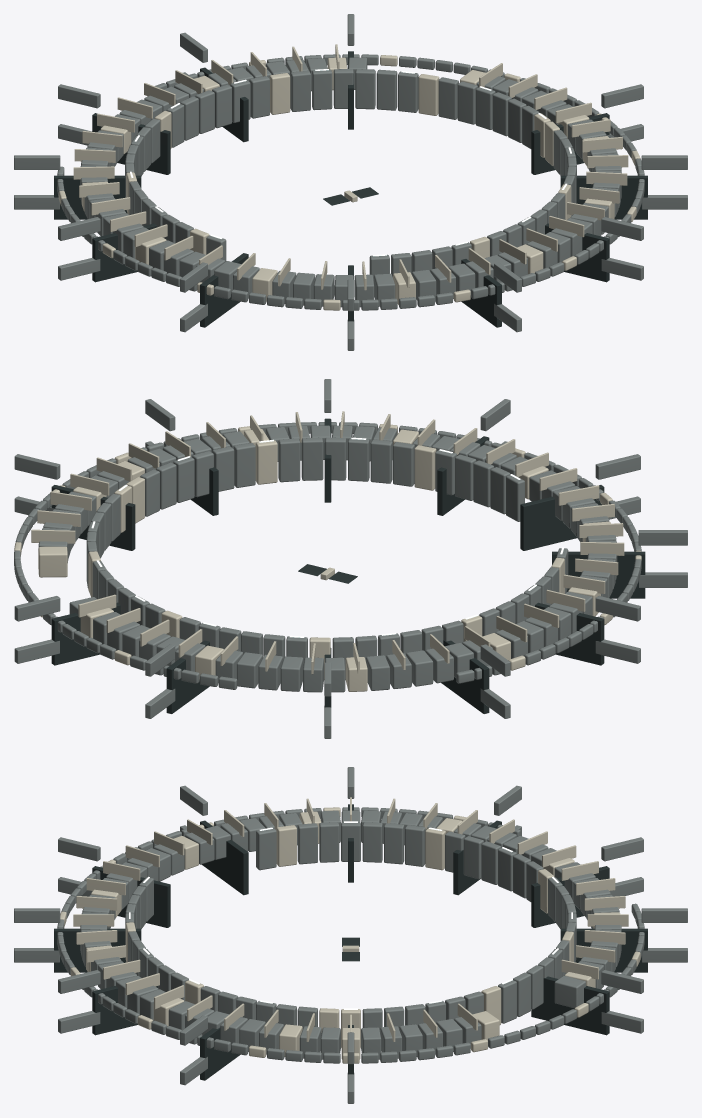
File: cathedral.glb
3 renders of one model, top to bottom at view 1: azimuth 30°, elevation 25°; view 2: azimuth 150°, elevation 25°; view 3: azimuth 270°, elevation 25°, orthographic. The views are drawn at different scales.
Parts seen in each view (by area): view 1: weathered_titanium, ceramic_ribs, recessed_graphite; view 2: weathered_titanium, ceramic_ribs, recessed_graphite; view 3: weathered_titanium, ceramic_ribs, recessed_graphite.
Part boxes in pixels (x1=…): weathered_titanium: x1=14, y1=14, x2=687, y2=350; ceramic_ribs: x1=58, y1=44, x2=640, y2=310; recessed_graphite: x1=54, y1=51, x2=647, y2=327; weathered_titanium: x1=14, y1=379, x2=687, y2=738; ceramic_ribs: x1=14, y1=411, x2=641, y2=691; recessed_graphite: x1=51, y1=418, x2=645, y2=713; weathered_titanium: x1=14, y1=767, x2=687, y2=1103; ceramic_ribs: x1=60, y1=797, x2=640, y2=1063; recessed_graphite: x1=54, y1=804, x2=647, y2=1080.
Bounding box in the file's own units: 2.62 × 0.2675 × 2.62.
